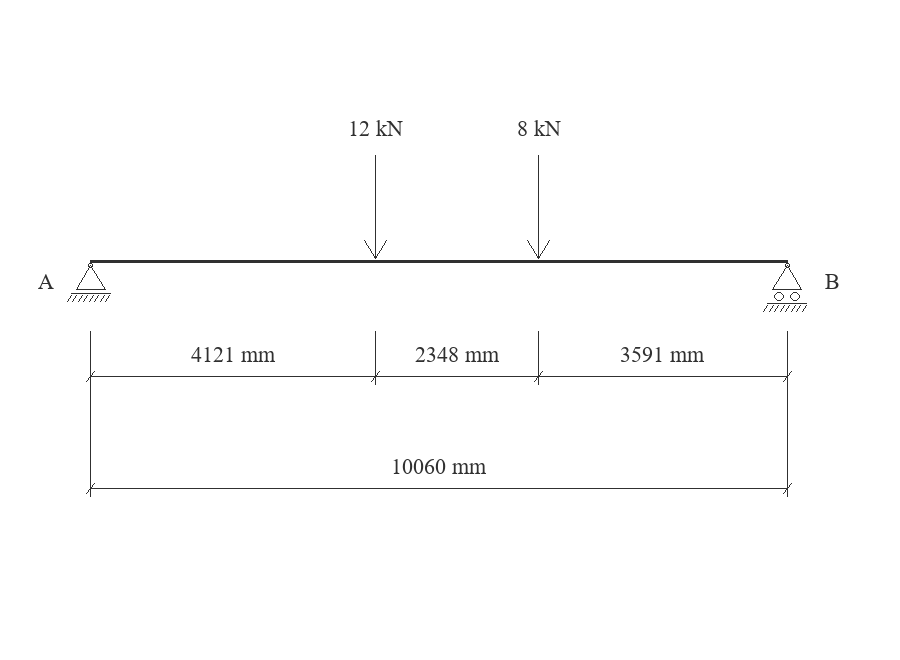pin_support: (67, 263, 111, 302)
point_load: (364, 155, 387, 259), (527, 155, 550, 259)
roller_support: (763, 263, 807, 312)
